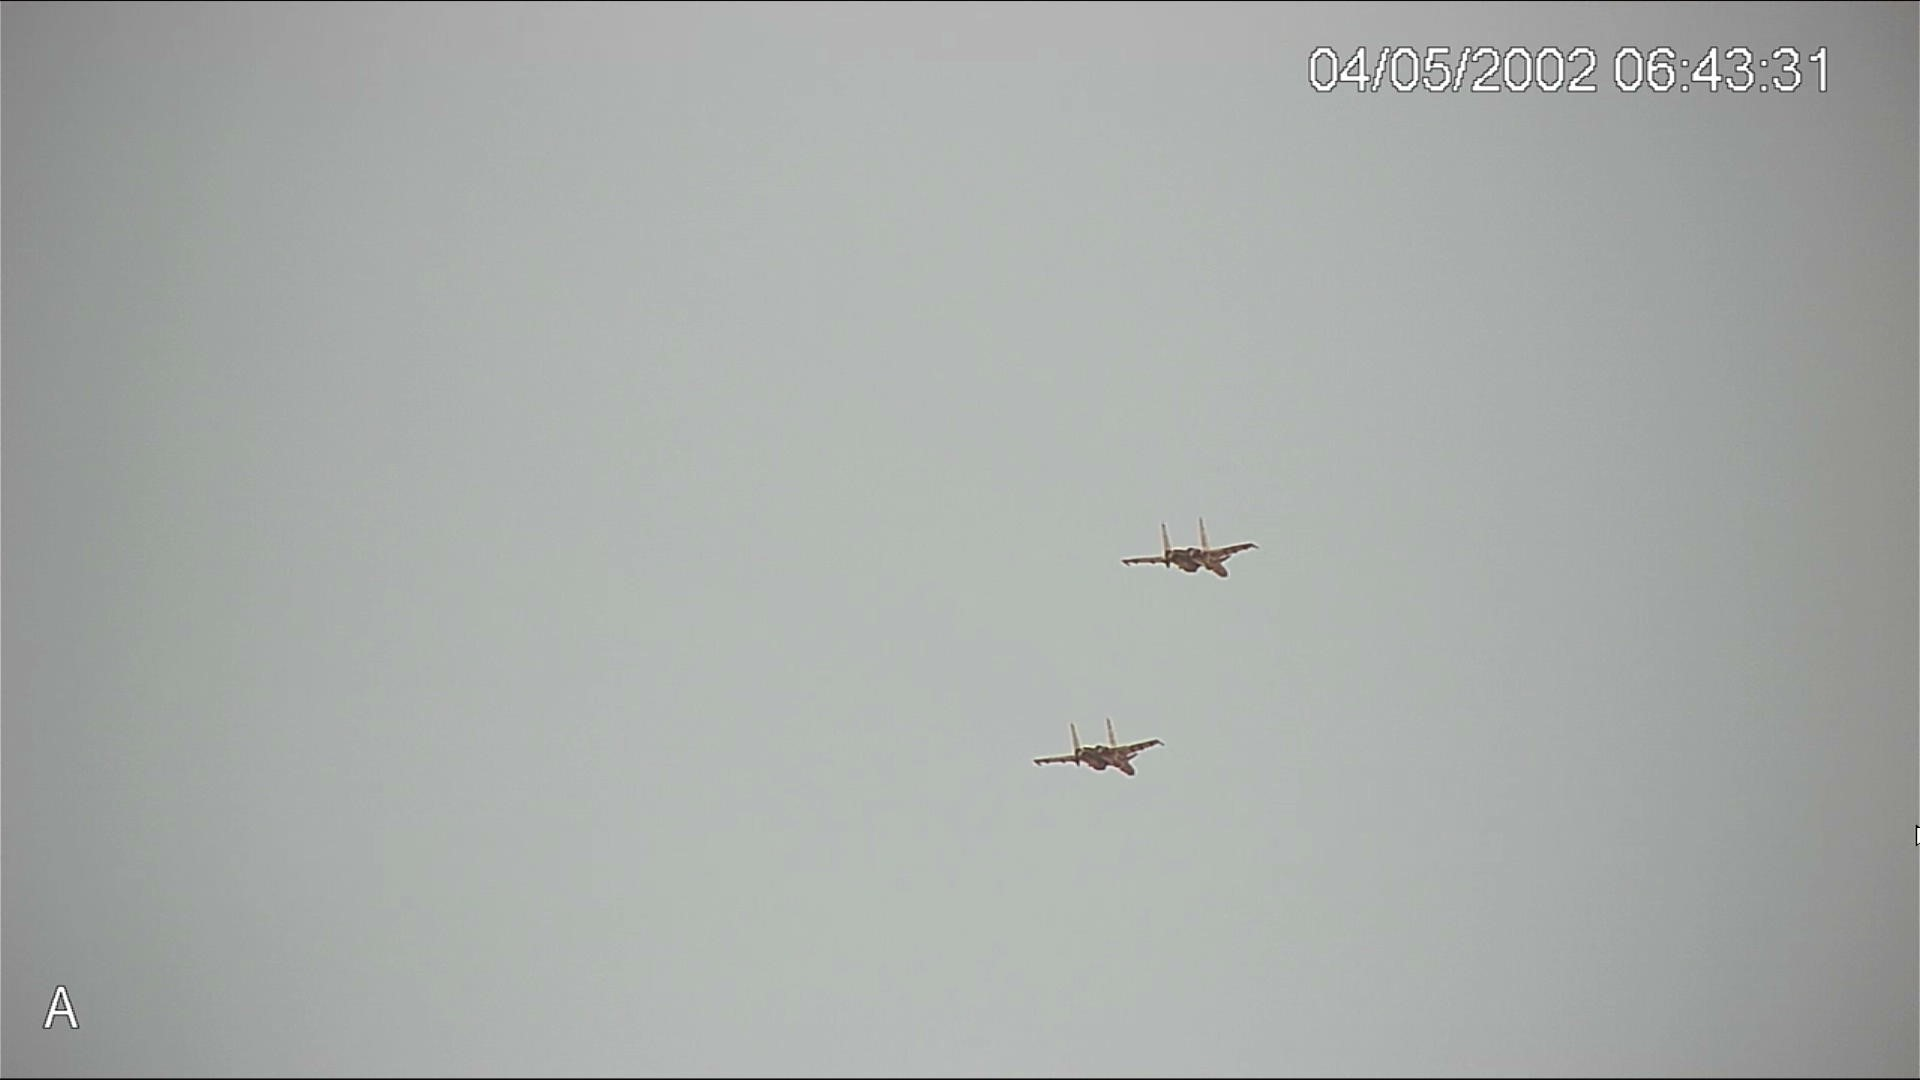SU_30: (1023, 715, 1164, 787), (1120, 517, 1258, 582)
